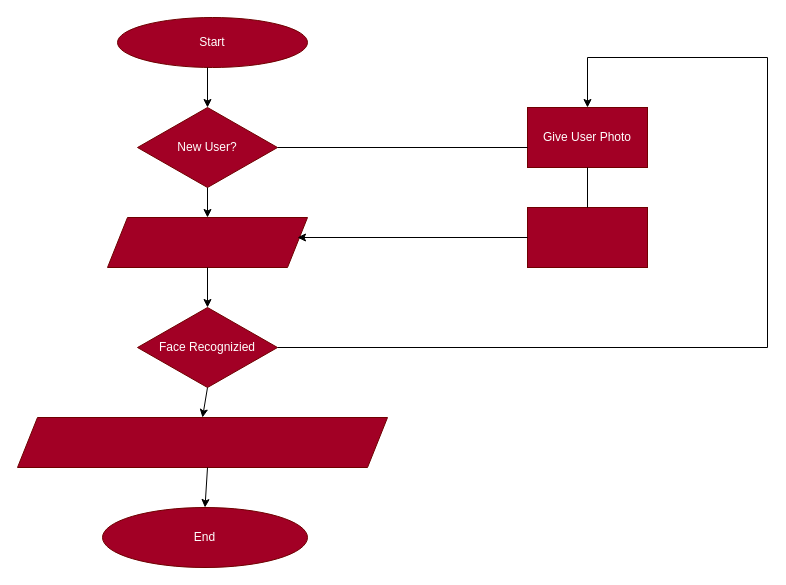
Some shapes in this 786 by 585 pixel diagram are drawn without their labels. Here are the shapes that lost their labels. From the top down, the centre of each, then its label:
pixel 207 242: Recognize The Face
pixel 587 237: Store the face data in folder on user name
pixel 202 442: Store in CSV file with Registration number ,Date and Time of registered
